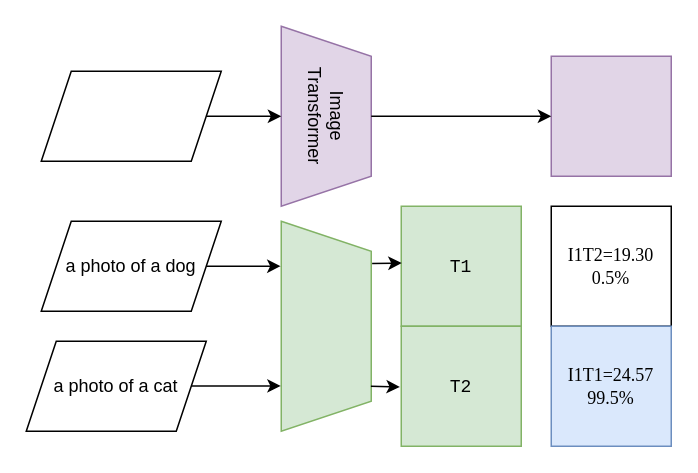
Image size: 698x473. Some labels were removed from this diagram. The centre of each missing label's shape, as x and y in pixels:
Cats Image: pixel 130 115
I1: pixel 610 115
Text Transformer: pixel 325 325
